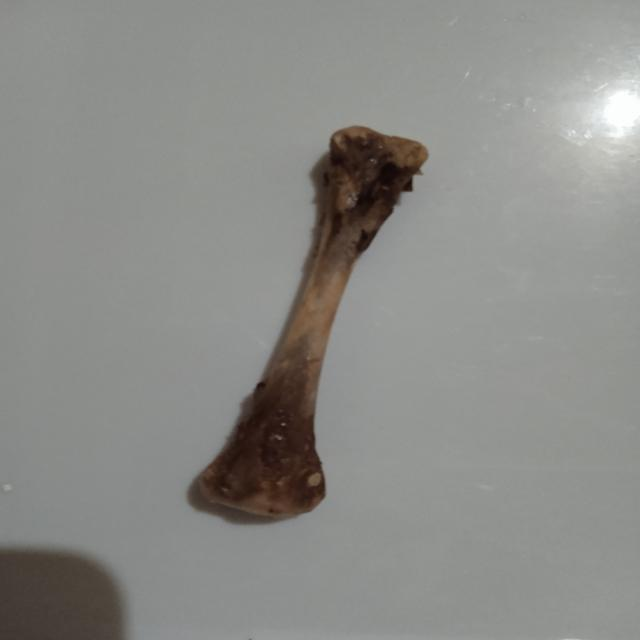bone: (190, 124, 436, 523)
